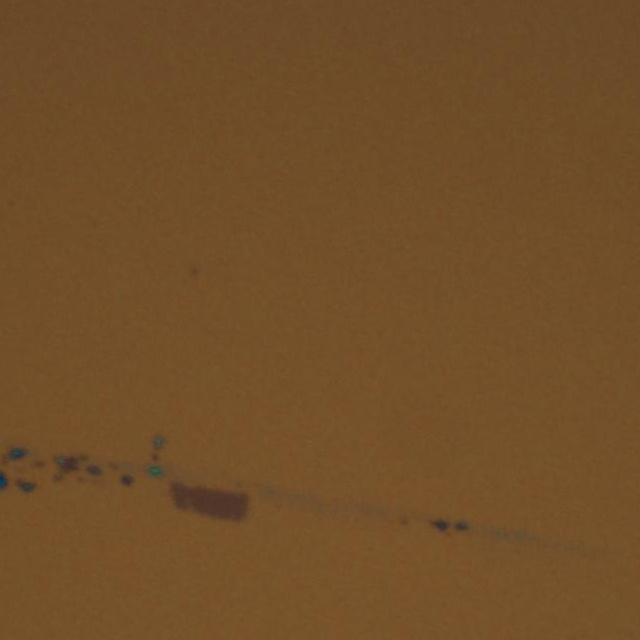monolayer-eWW4: (162, 477, 252, 525)
